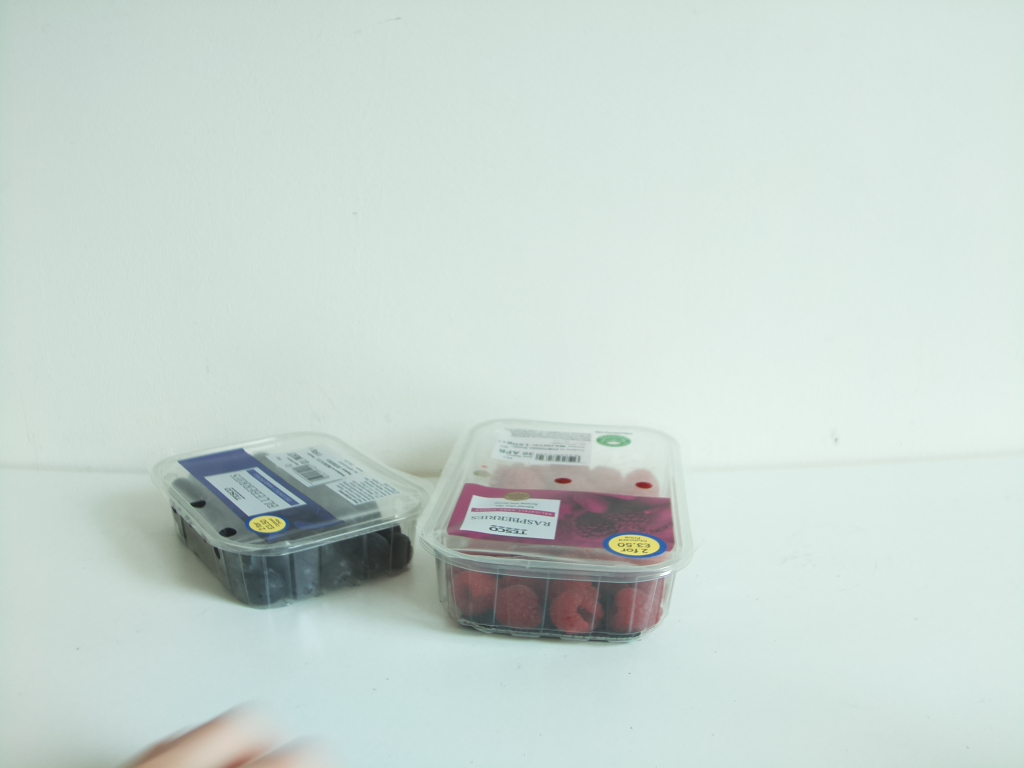soft-fruit: (429, 412, 677, 645), (166, 433, 419, 605)
